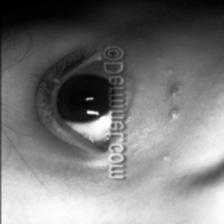Toxin: (167, 82, 181, 120), (161, 152, 169, 162), (154, 54, 162, 61)
